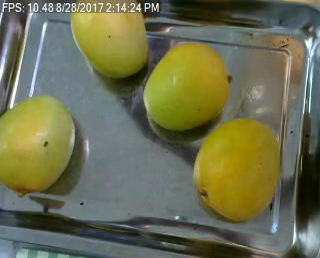Mango: (191, 118, 277, 217), (0, 96, 75, 195), (145, 43, 230, 129), (70, 1, 147, 76)
